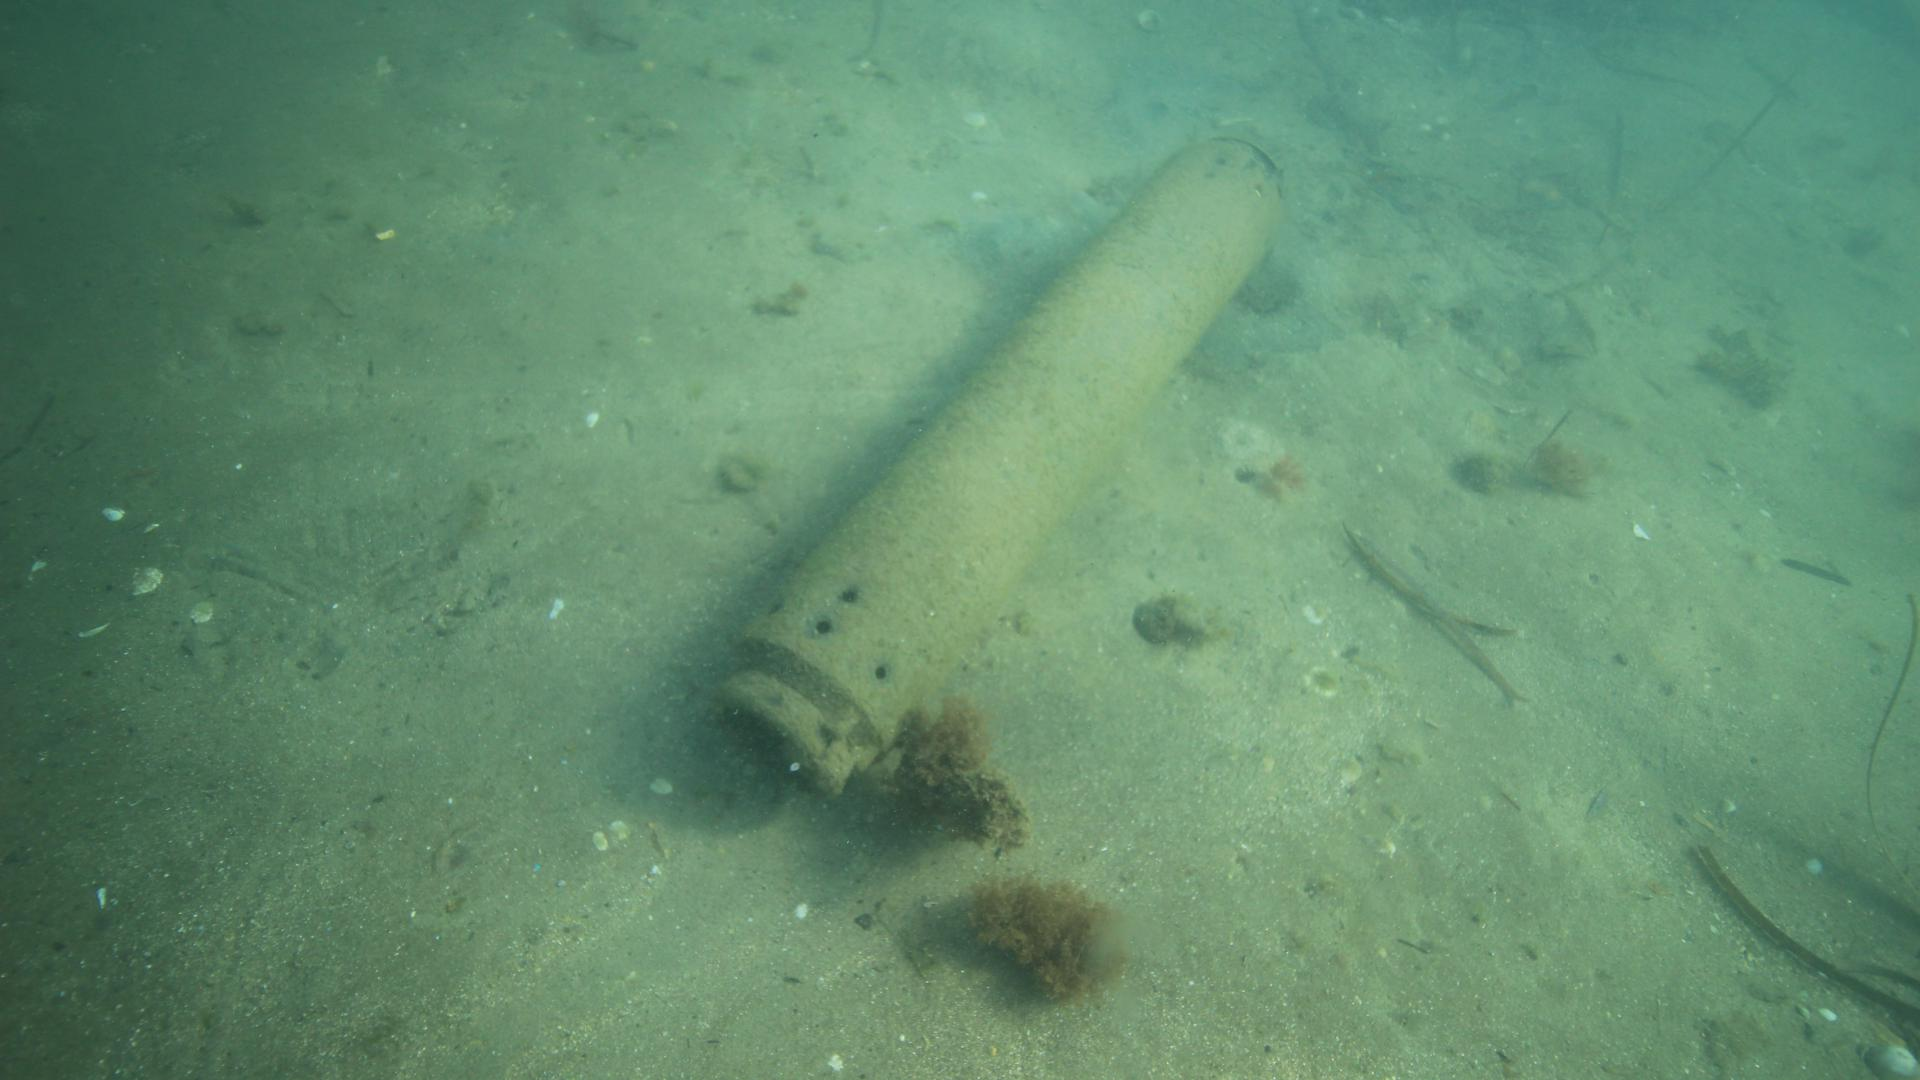eel fish trap: (716, 129, 1287, 800)
